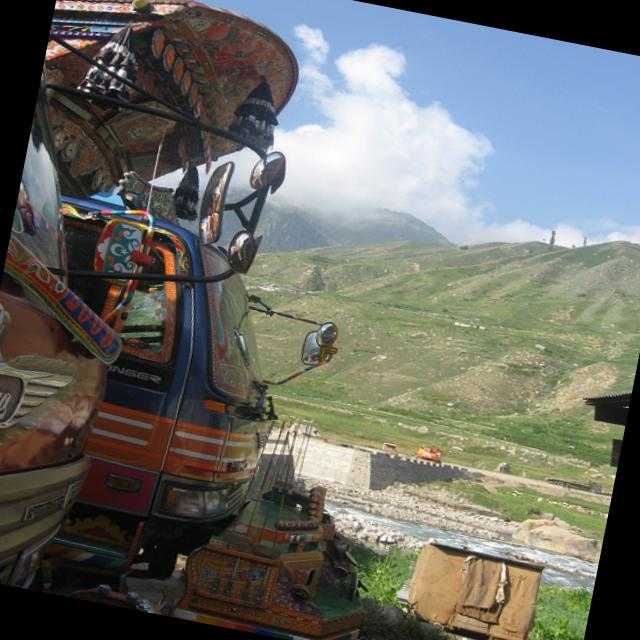Vehicle: (10, 195, 357, 568), (0, 57, 182, 600), (417, 444, 442, 462)
